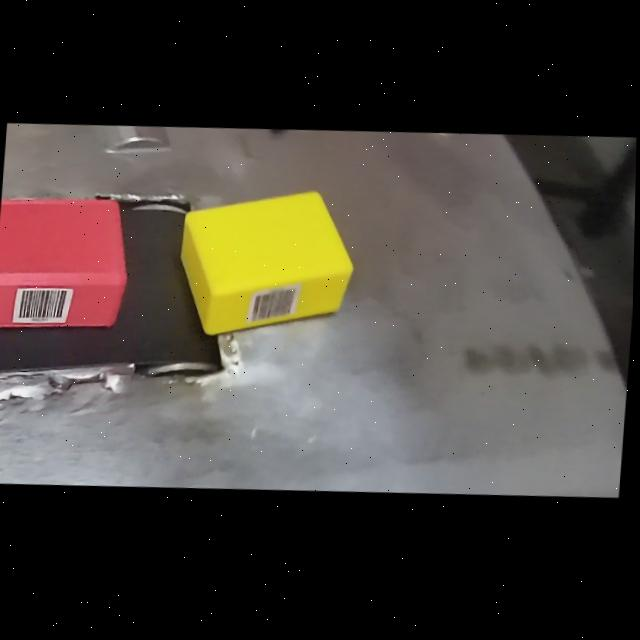redBox: (0, 187, 140, 338)
yellowBox: (173, 178, 364, 348)
